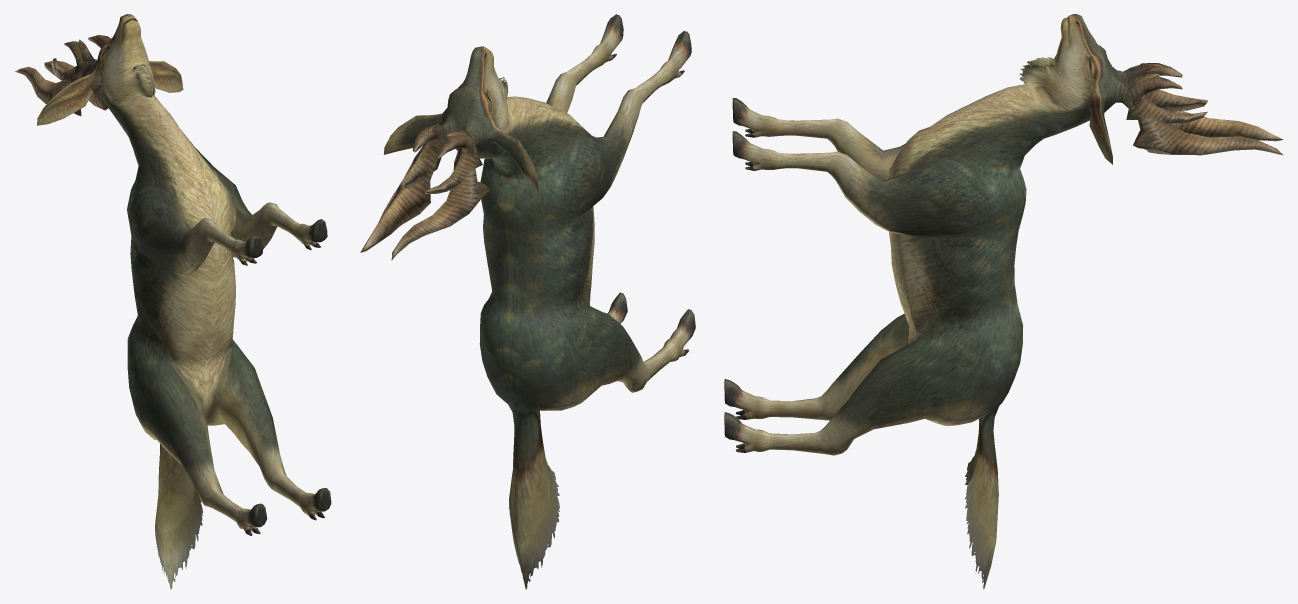
Rendered from ems003_00.obj.
3 views of the same model, side by side, from view 1: azimuth 30°, elevation 25°; view 2: azimuth 150°, elevation 25°; view 3: azimuth 270°, elevation 25° (orthographic). The views are drawn at different scales.
Visible parts, largest first — view 1: ems003_00_000_LOD_1, ems003_00_006_LOD_1, ems003_00_005_LOD_1, ems003_00_004_LOD_1, ems003_00_002_LOD_1; view 2: ems003_00_000_LOD_1, ems003_00_005_LOD_1, ems003_00_006_LOD_1, ems003_00_004_LOD_1; view 3: ems003_00_000_LOD_1, ems003_00_005_LOD_1, ems003_00_004_LOD_1, ems003_00_006_LOD_1, ems003_00_002_LOD_1.
Part boxes in pixels (x1=…): ems003_00_000_LOD_1: x1=37, y1=14, x2=331, y2=539; ems003_00_006_LOD_1: x1=155, y1=481, x2=202, y2=589; ems003_00_005_LOD_1: x1=15, y1=35, x2=110, y2=116; ems003_00_004_LOD_1: x1=51, y1=35, x2=108, y2=82; ems003_00_002_LOD_1: x1=128, y1=64, x2=154, y2=97; ems003_00_000_LOD_1: x1=383, y1=14, x2=695, y2=545; ems003_00_005_LOD_1: x1=360, y1=126, x2=490, y2=260; ems003_00_006_LOD_1: x1=509, y1=459, x2=559, y2=589; ems003_00_004_LOD_1: x1=399, y1=124, x2=482, y2=193; ems003_00_000_LOD_1: x1=724, y1=14, x2=1126, y2=540; ems003_00_005_LOD_1: x1=1122, y1=63, x2=1283, y2=155; ems003_00_004_LOD_1: x1=1121, y1=63, x2=1207, y2=124; ems003_00_006_LOD_1: x1=965, y1=450, x2=996, y2=589; ems003_00_002_LOD_1: x1=1019, y1=57, x2=1054, y2=87.
Size of the model in its own units: 67.14 by 238 by 210.
